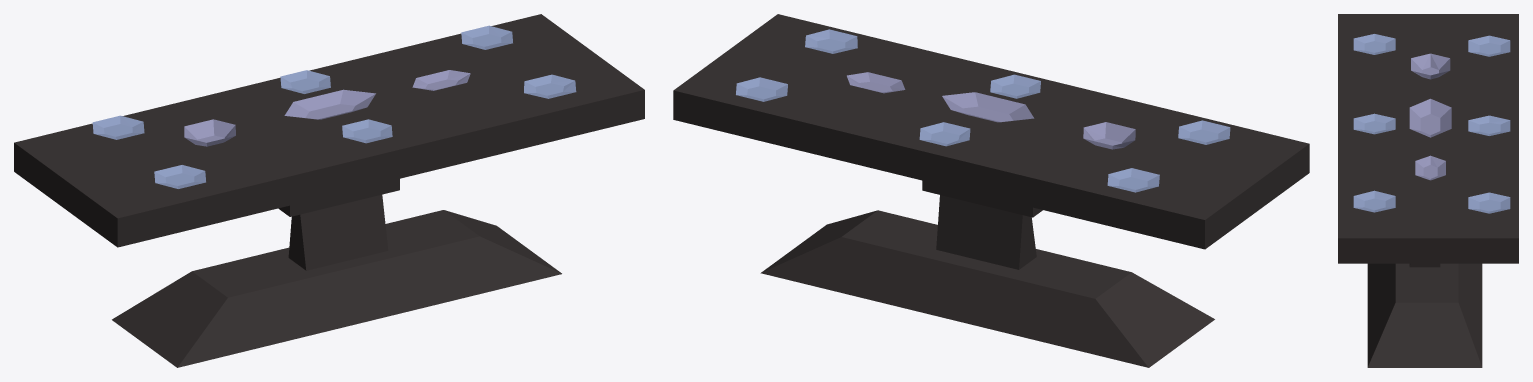
Rendered from obj_table_11_0.obj.
3 renders of one model, left to right at view 1: azimuth 30°, elevation 25°; view 2: azimuth 150°, elevation 25°; view 3: azimuth 270°, elevation 25°, orthographic. The views are drawn at different scales.
Bounding box in the file's own units: 2.96 × 1.04 × 1.01.
